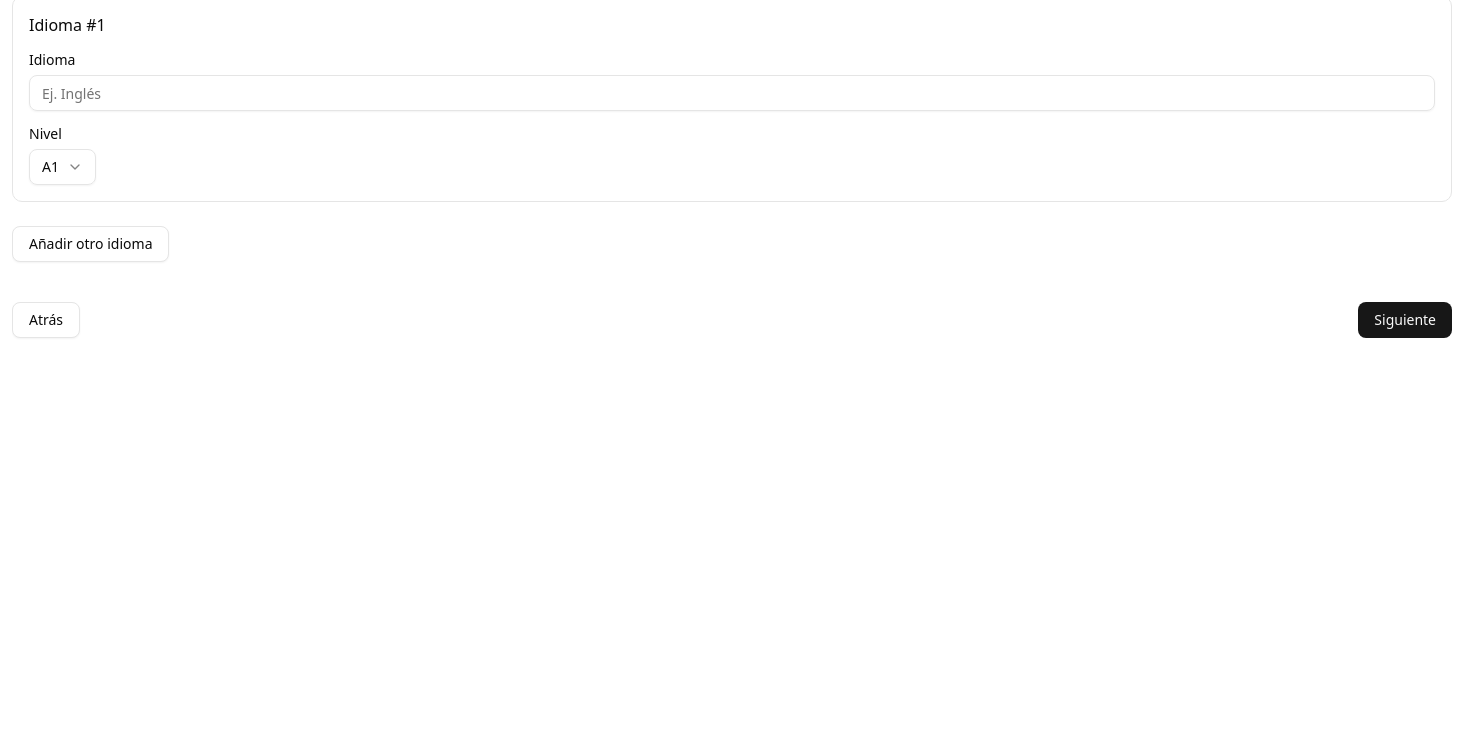
Test: LanguagesSection › desactiva el botón para añadir más de 4 idiomas
What coordinates should you click on to do the following:
click the button "Añadir otro idioma"
I would click on:
 (91, 244)
Its box is [12,226,170,262].
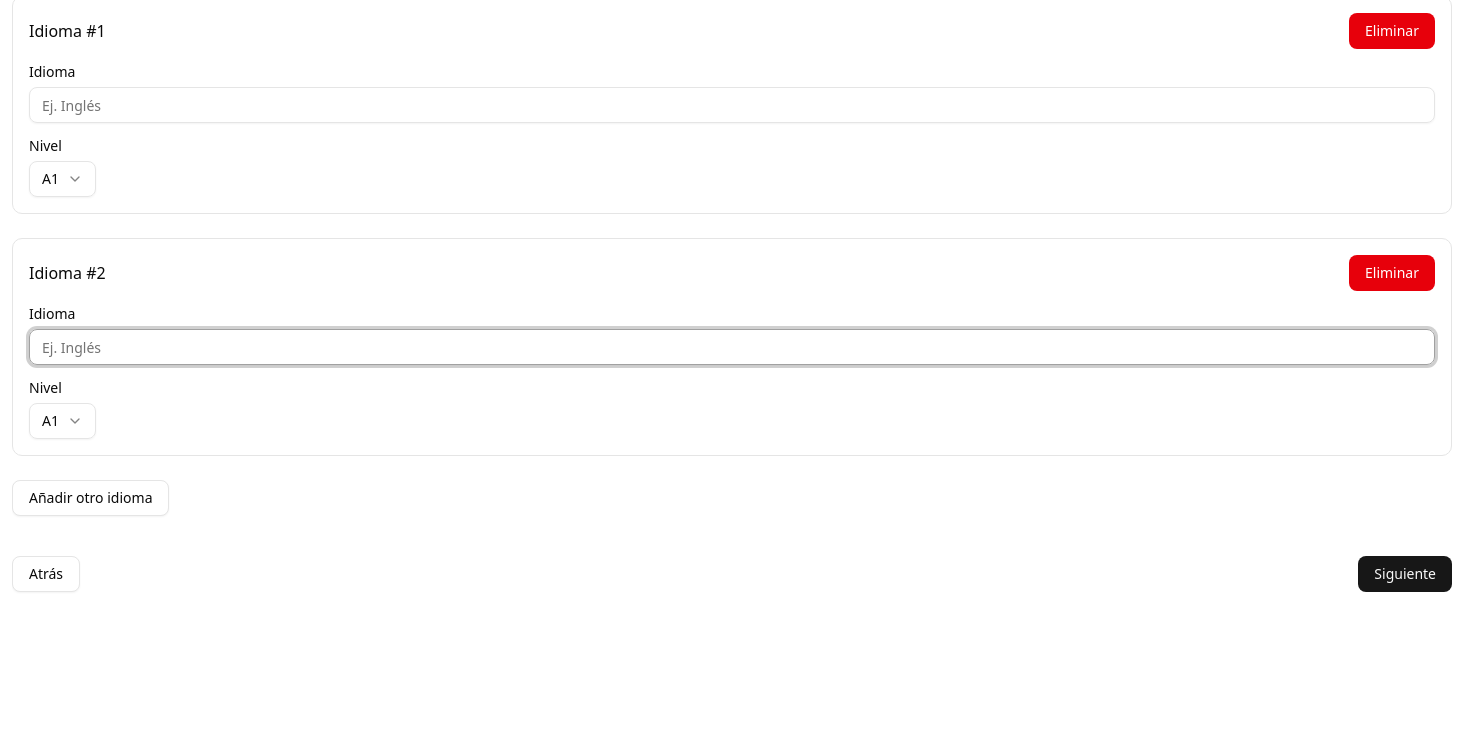
What coordinates should you click on to do the following:
click the button "Añadir otro idioma"
I would click on:
 (91, 498)
Its box is [12,480,170,516].
(page scrolled)
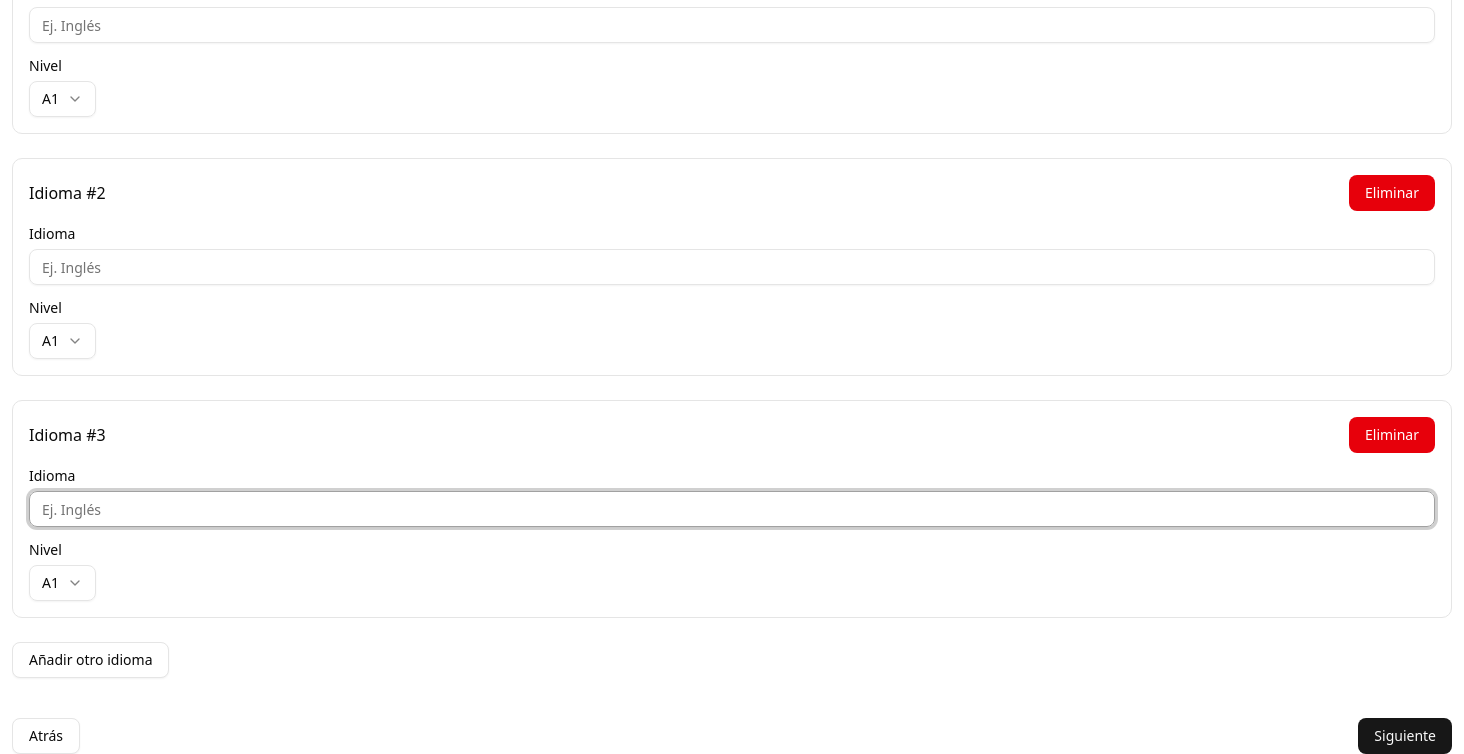
What coordinates should you click on to do the following:
click the button "Añadir otro idioma"
I would click on:
 (91, 660)
Its box is [12,642,170,678].
(page scrolled)
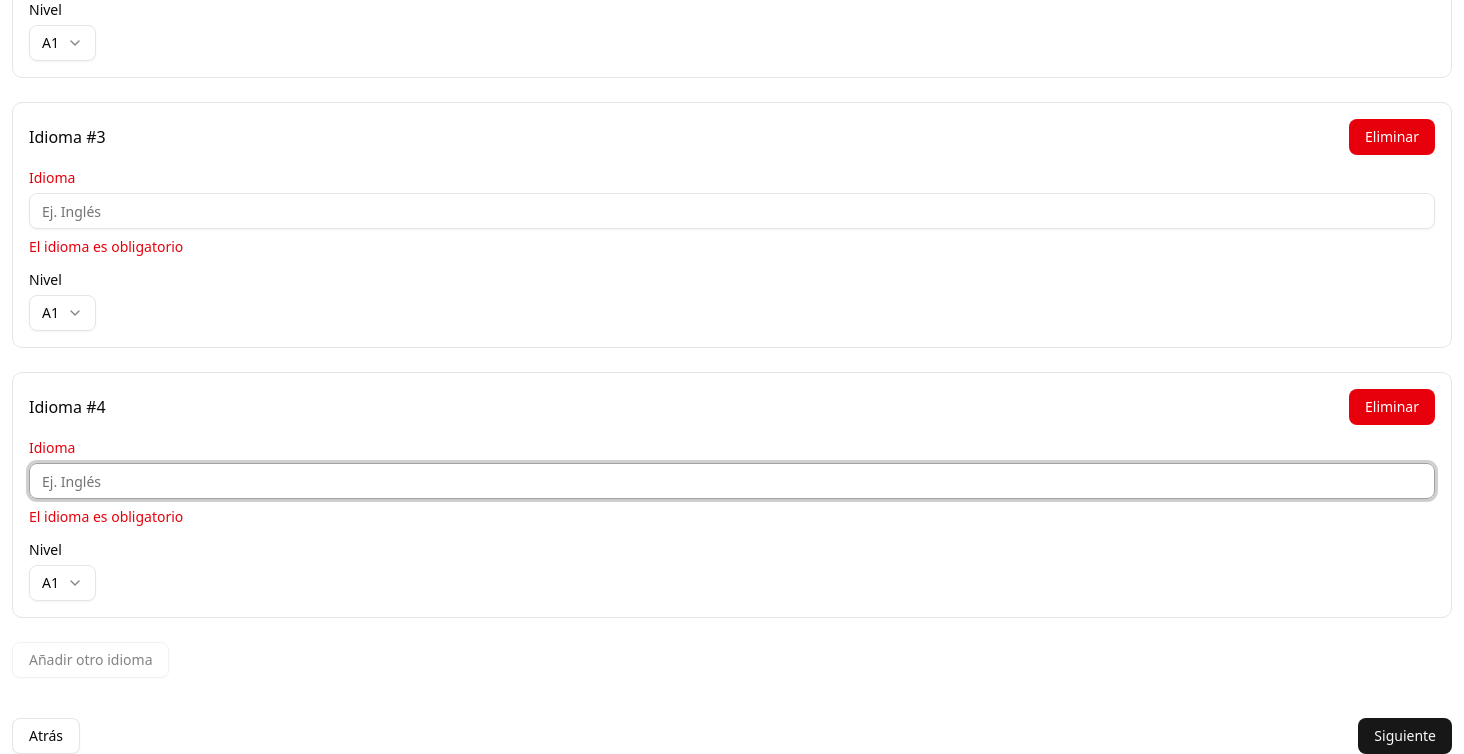
Expected: the text "idioma #" is shown 4 times
Expected: the button "Añadir otro idioma" is disabled, [12,642,170,678]
